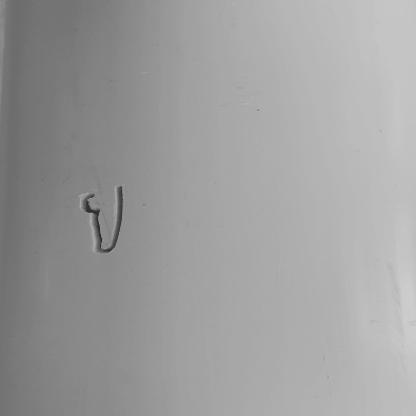fengxi: (79, 186, 124, 255)
